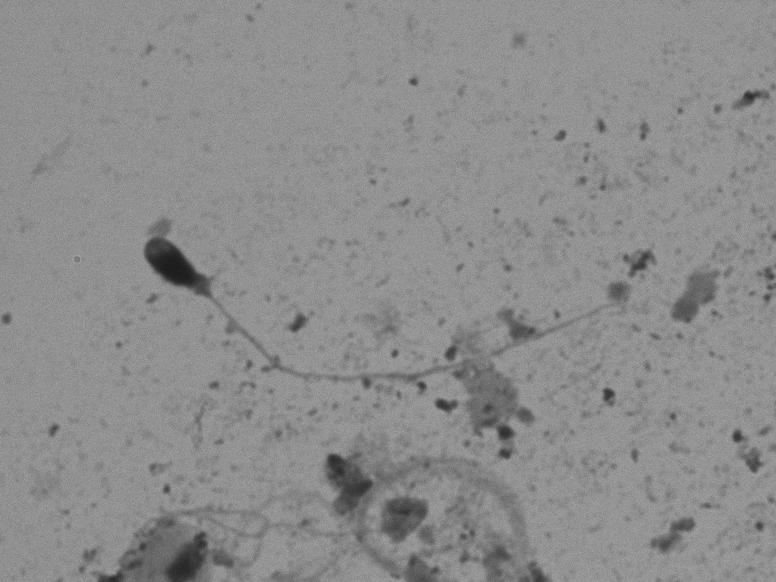Abnormal: (132, 203, 666, 417)
